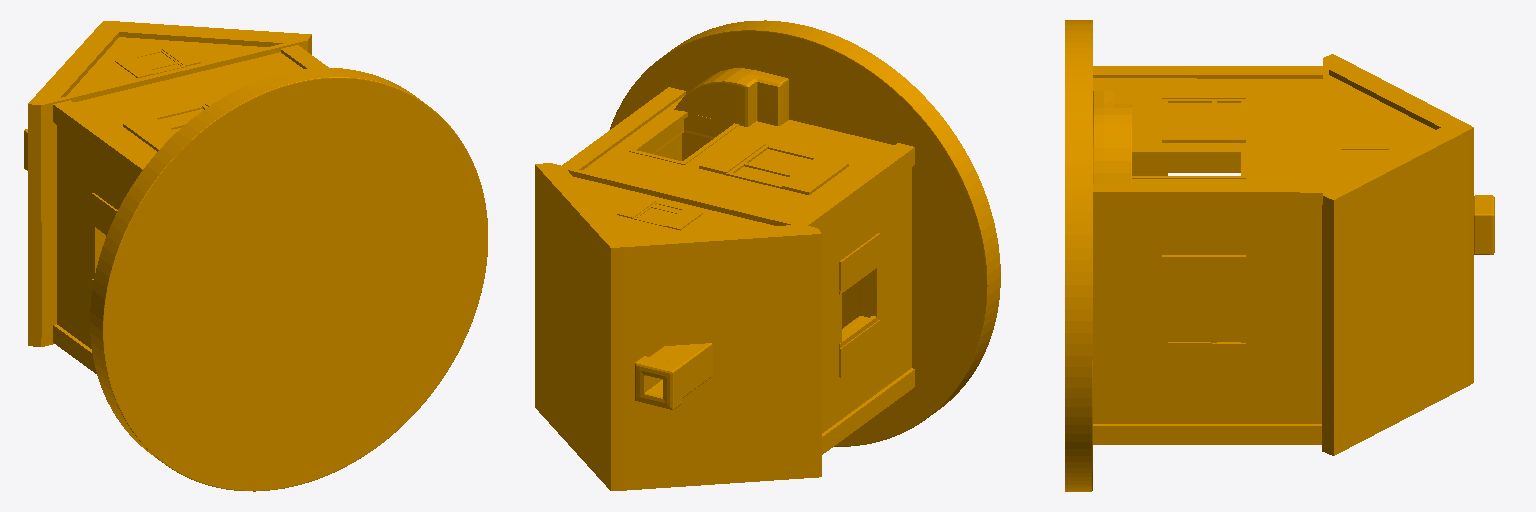
URDF robot description (object):
<?xml version="1.0"?>
<robot name="object">
 <link name="link">
    <visual>
      <geometry>
        <mesh filename="home.obj"/>
      </geometry>
      <material name="material">
        <texture filename="home.mtl"/>
      </material>
    </visual>
    <collision>
      <geometry>
        <mesh filename="home.obj"/>
      </geometry>
    </collision>
 </link>
</robot>

--- Render facts (derived) ---
The picture shows the robot from 3 angles, left to right: view 1: azimuth 30°, elevation 25°; view 2: azimuth 150°, elevation 25°; view 3: azimuth 270°, elevation 25°; orthographic projection.
Model object with 1 links and 0 joints (none), rooted at link, posed every joint at zero.
Links seen in each view (by area): view 1: link; view 2: link; view 3: link.
Boxes of the visible links, x1=… form: link: x1=24, y1=21, x2=487, y2=491; link: x1=535, y1=20, x2=1000, y2=490; link: x1=1065, y1=20, x2=1494, y2=491.
Bounding box of the posed robot: 2.87 × 2.62 × 2.87 m (x, y, z).
1 mesh visuals loaded from 1 distinct referenced files (1 OBJ).
